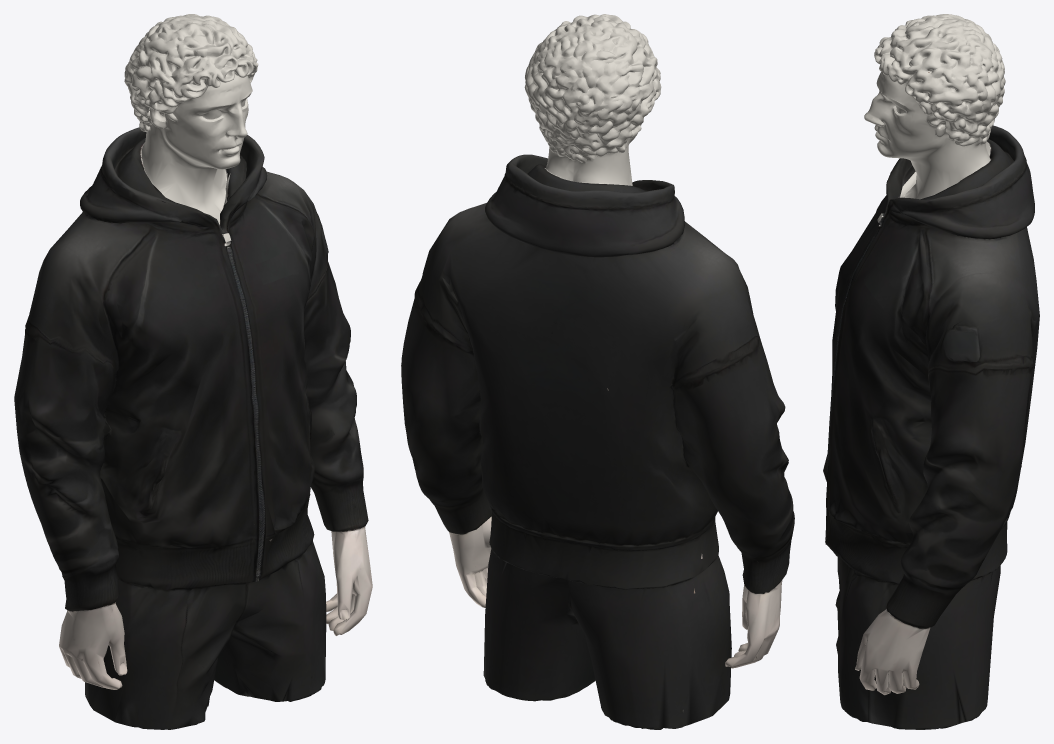
File: hoodie-sculpture-pocket.glb
3 renders of one model, left to right at view 1: azimuth 30°, elevation 25°; view 2: azimuth 150°, elevation 25°; view 3: azimuth 270°, elevation 25°, orthographic. The views are drawn at different scales.
Visible parts, largest first — view 1: model; view 2: model; view 3: model.
Boxes of the visible parts, x1=… form: model: x1=14, y1=14, x2=372, y2=729; model: x1=401, y1=14, x2=794, y2=729; model: x1=823, y1=14, x2=1039, y2=729.
Bounding box in the file's own units: 1.03 × 1.9 × 0.5682.
2 materials, 1 textured.
